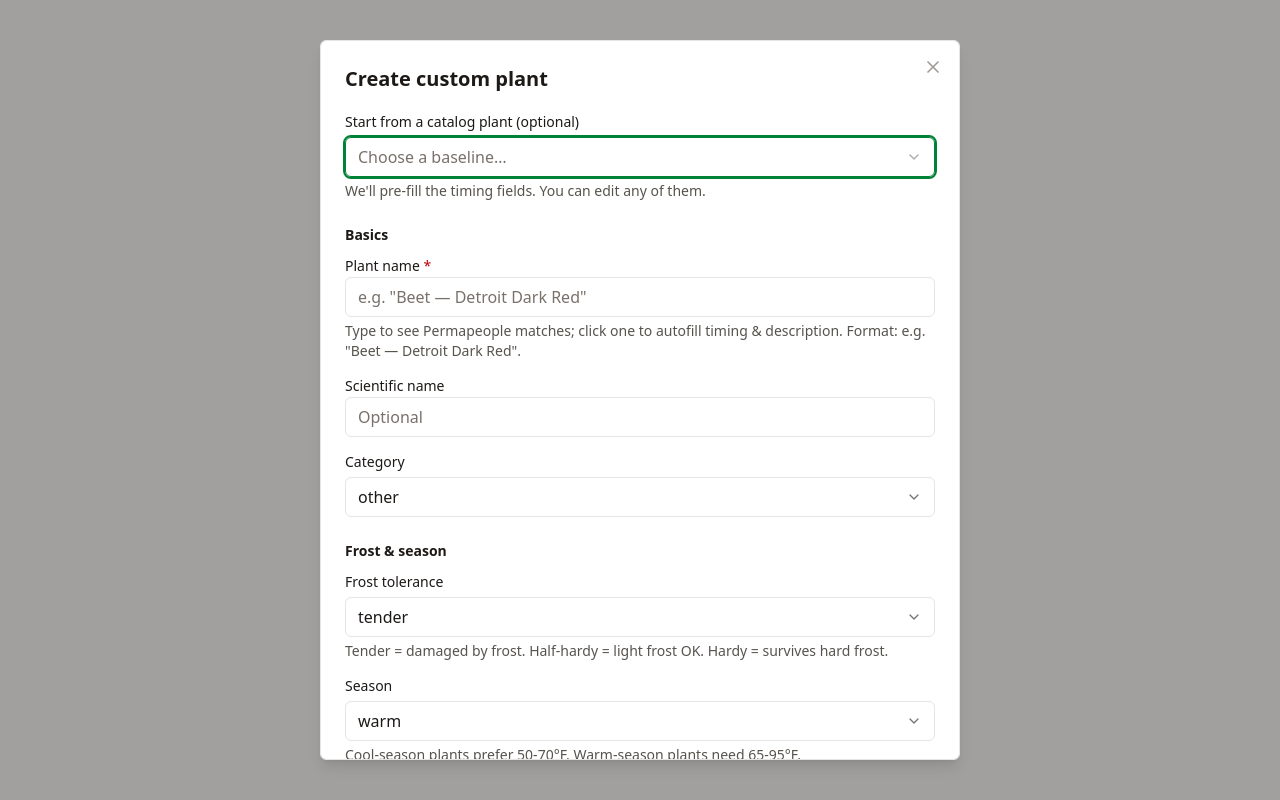
Test case: CustomPlantModal › Add from Permapeople fills matching name, botanical, and timing fields
Step 1. Type "green zebra tomato" into the field labelled "Plant name *" → (640, 297), box top-left (345, 277), bottom-right (935, 317)
(page scrolled)
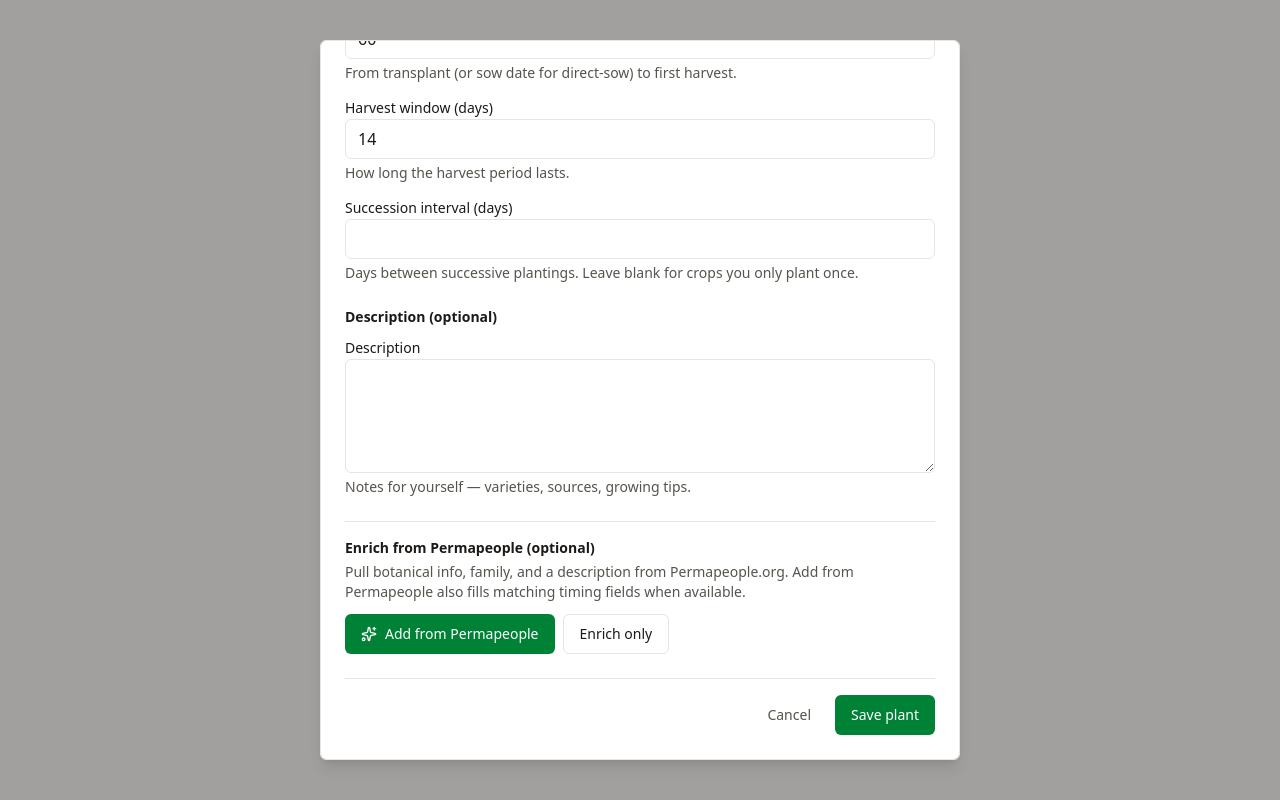
Step 2. Click the button "Add from Permapeople" → (450, 634), box top-left (345, 614), bottom-right (554, 654)
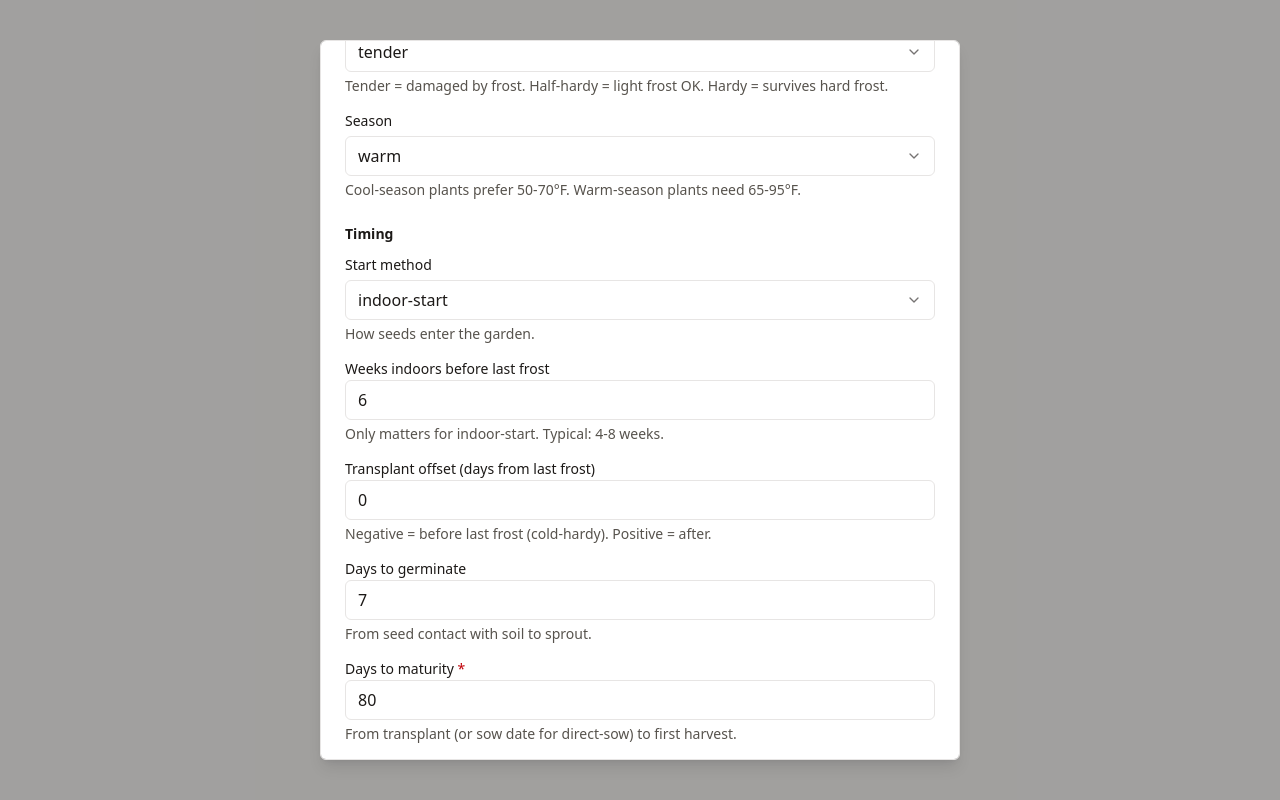
Expected: the number field labelled "Days to maturity *" holds "80", top-left (345, 680), bottom-right (935, 720)
Expected: the number field labelled "Weeks indoors before last frost" holds "6", top-left (345, 380), bottom-right (935, 420)
